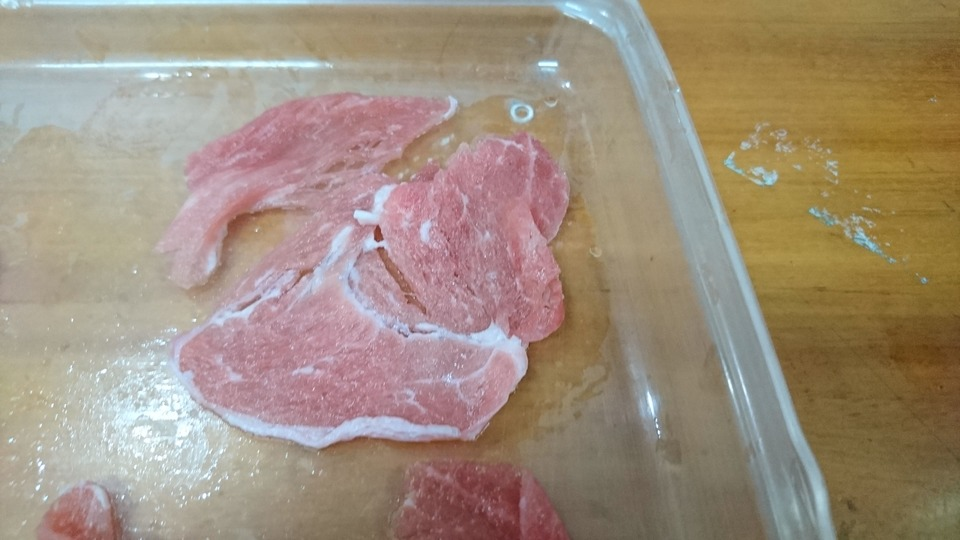restructured meat: (141, 102, 558, 451), (403, 456, 567, 540)
